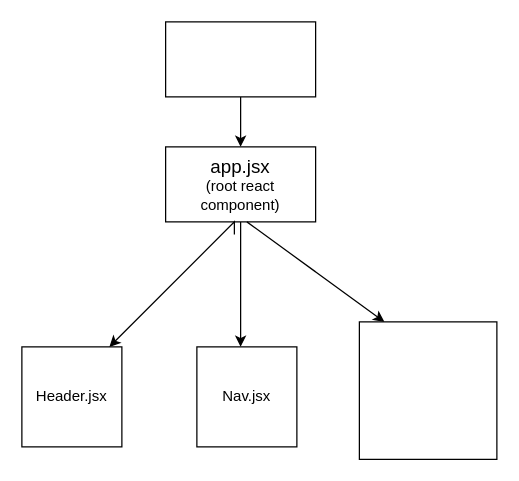
The diagram is 519 pixels wide and 481 high, and some of its shapes have lost their labels. Each missing label, with the centre of its shape:
main.jsx (app entry point): [240,59]
SummaryCard.jsx (4 cards): [427,390]
